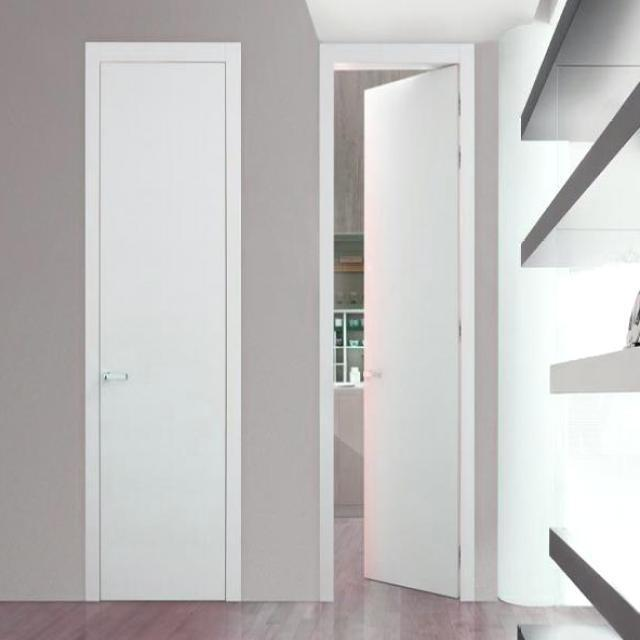door: (87, 41, 238, 602), (361, 64, 460, 599)
